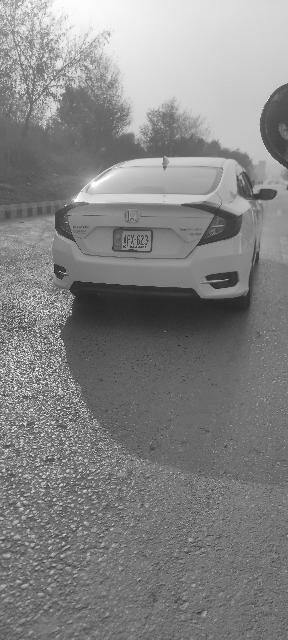Number: (124, 234, 150, 246)
